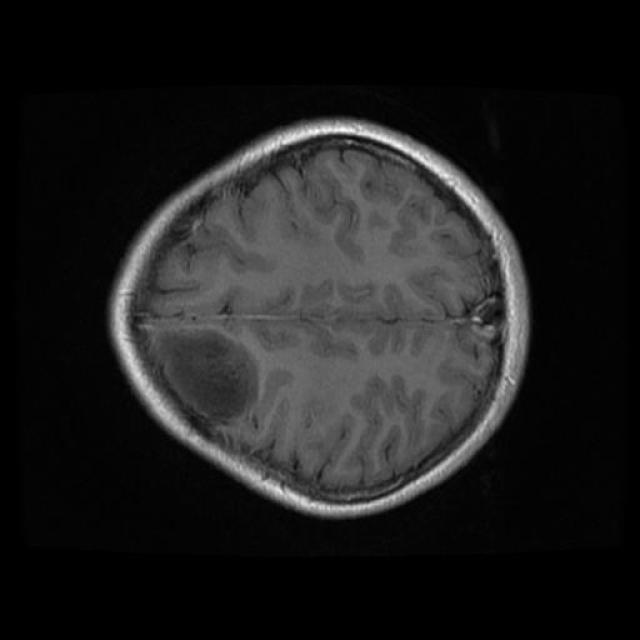Glioma: (157, 329, 256, 421)
